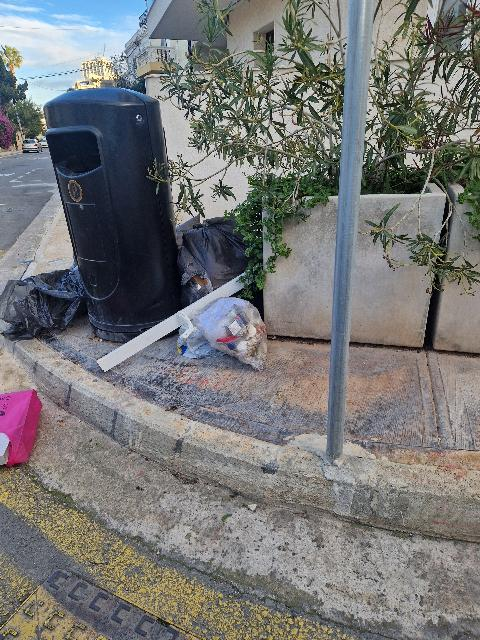Mixed -Black-: (177, 218, 250, 307), (0, 265, 86, 339)
Organic -White-: (177, 323, 224, 359)
Recyclable -Grey-: (195, 298, 267, 370)
